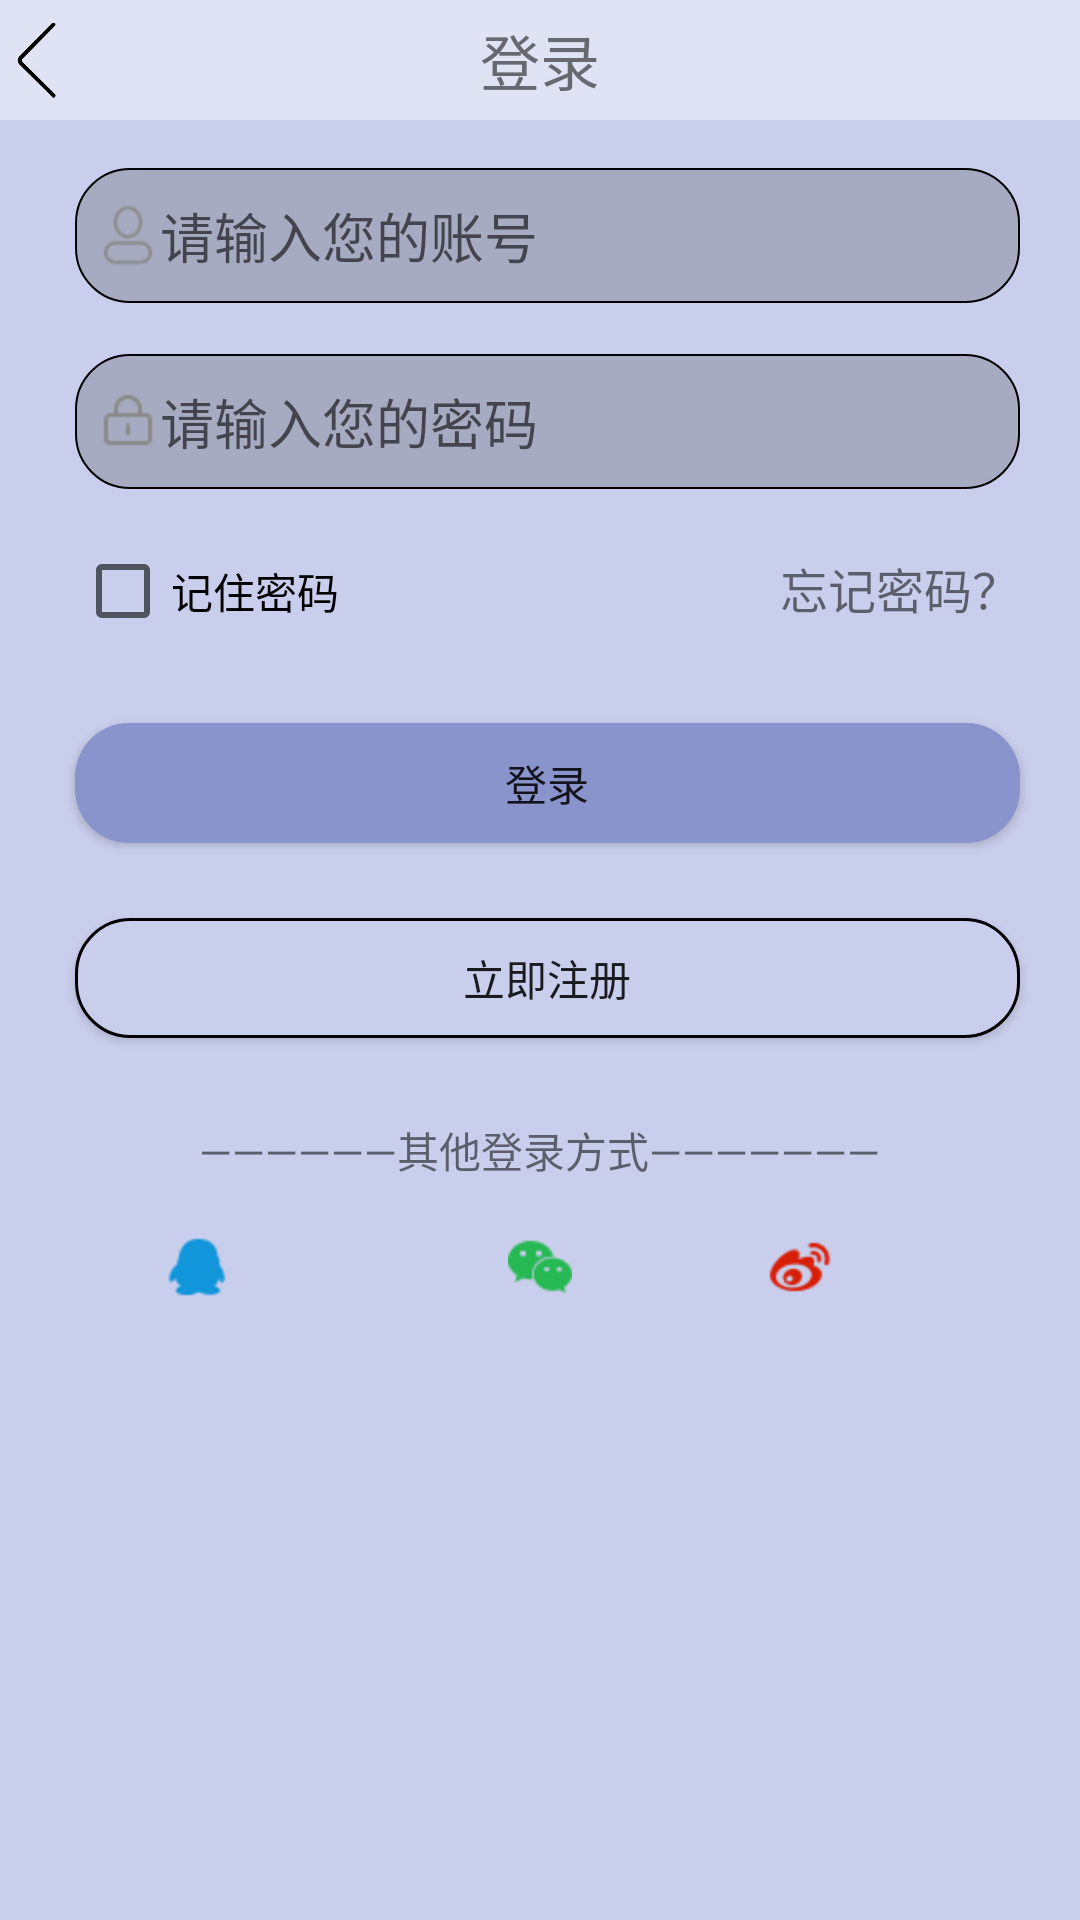

Locate icon controls on the screen. Image size 1080 × 1920, boxes as {"x1": x1, "y1": y1, "x2": x2, "y2": y2}.
fanhui: {"x1": 18, "y1": 23, "x2": 56, "y2": 98}
